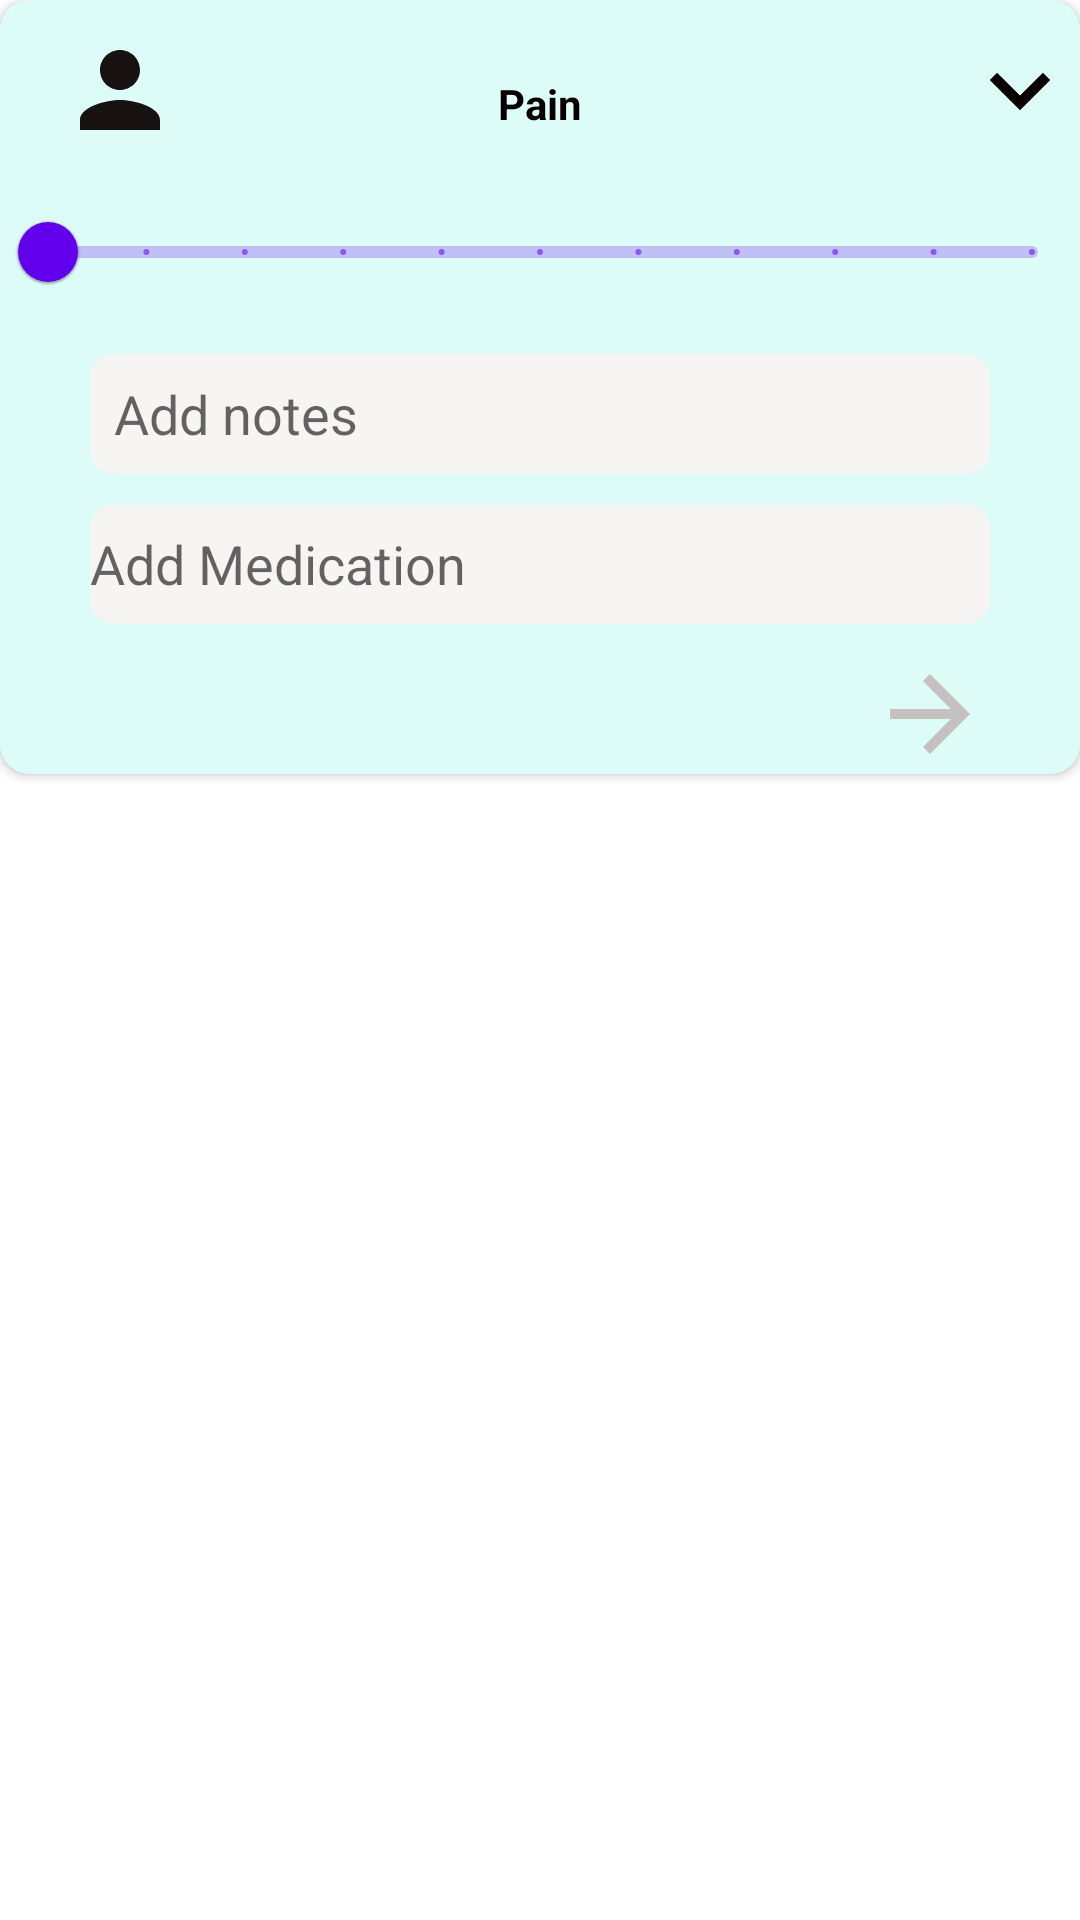

Named icons in this screenshot (1080px x 1920px) and their bounding boxes, [x1, y1, x2, y2]:
arrow forward: [890, 674, 970, 754]
person: [80, 50, 160, 130]
